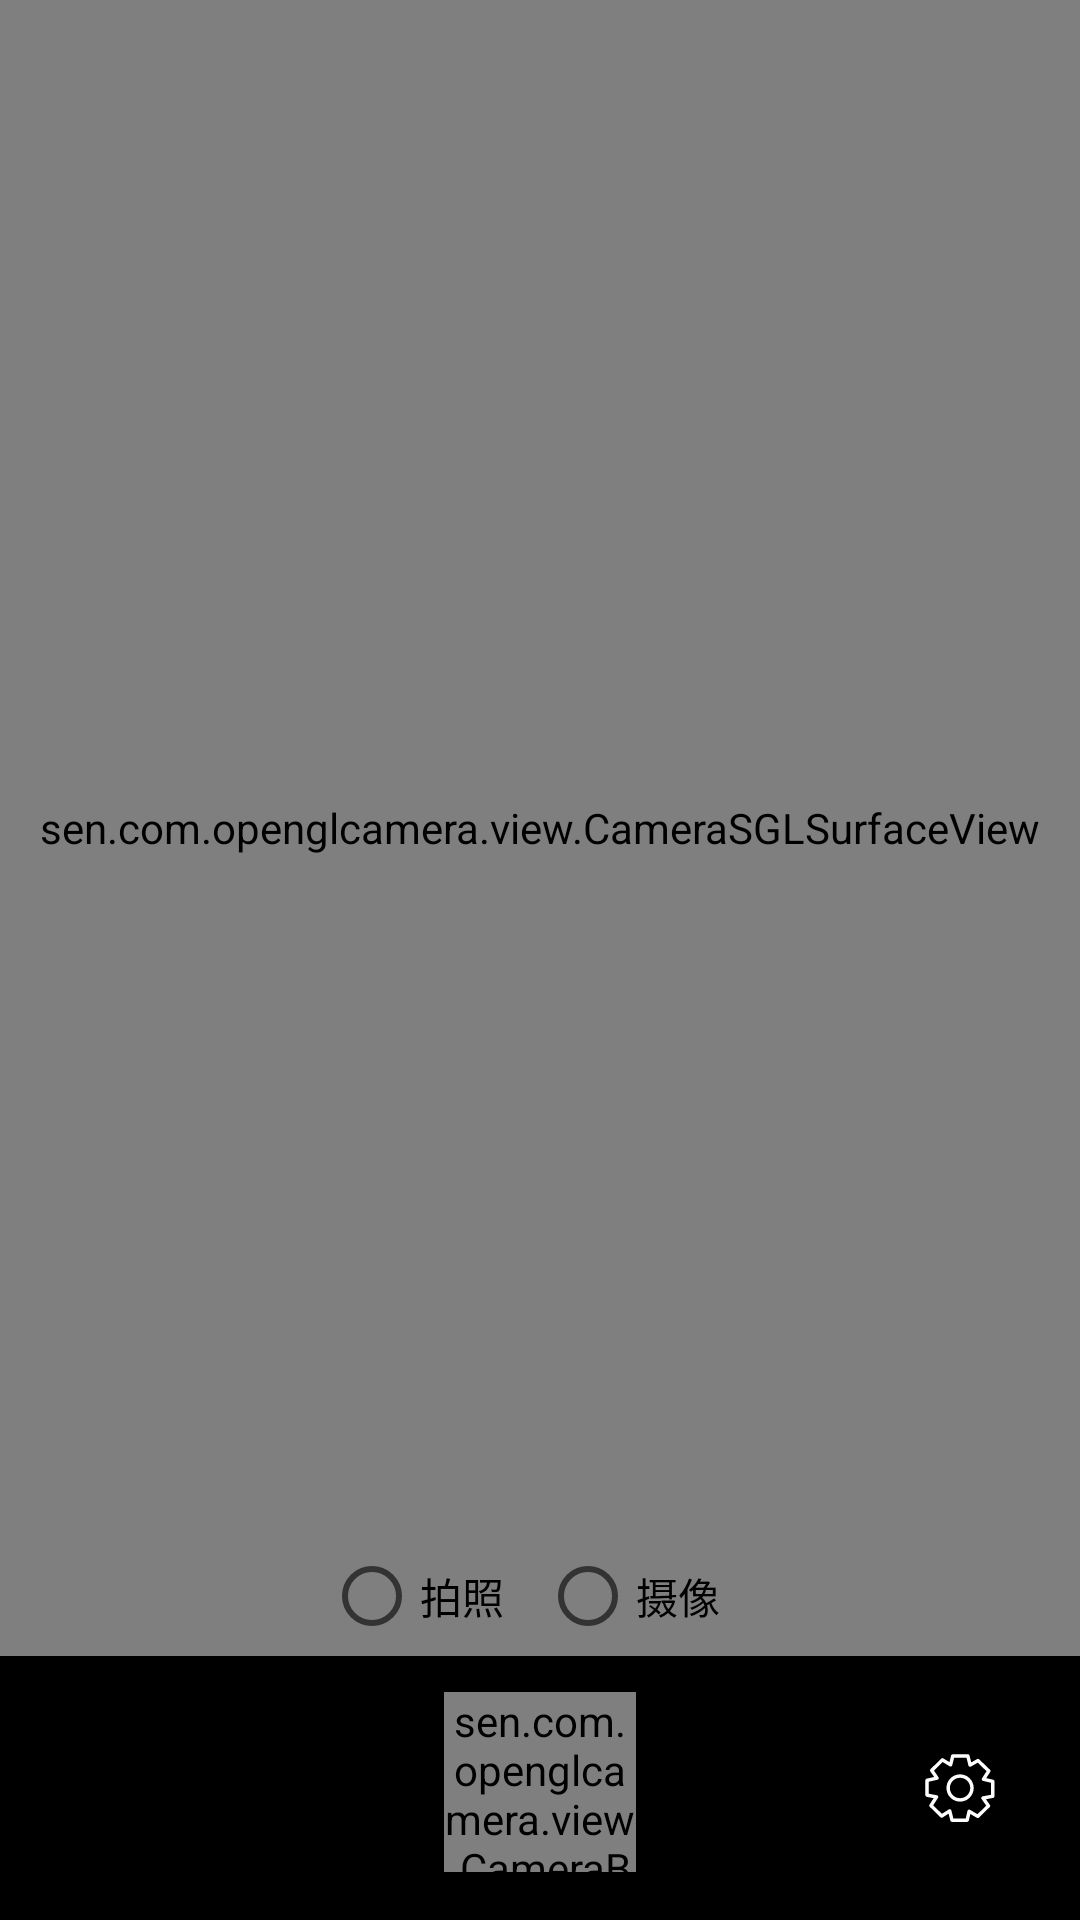

Screen size 1080×1920. Icon name, then its box in pixels as [x1,y1,x2,y2]:
set: [925,1754,995,1822]
